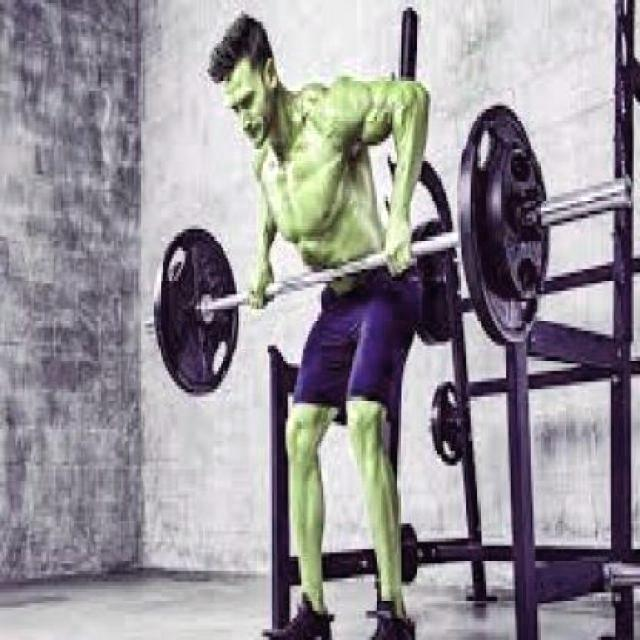barbell: (447, 96, 635, 357)
